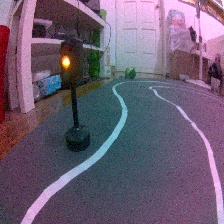amber: (56, 40, 94, 152)
